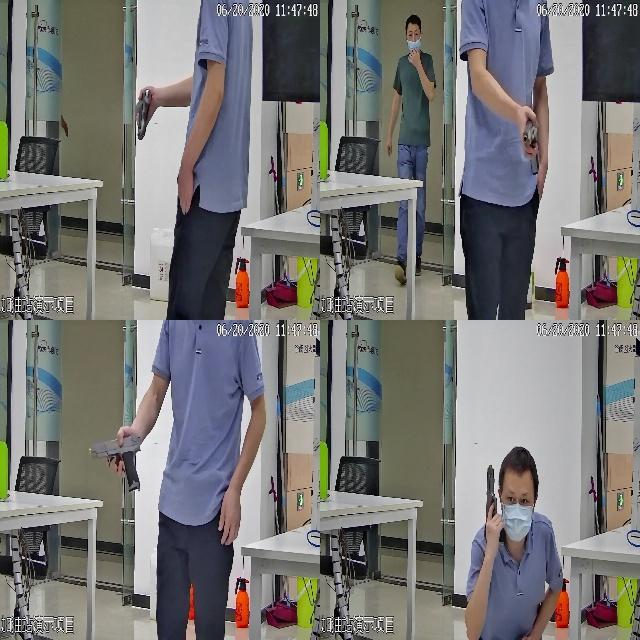gun-knife-thesis - v11 Yolov5 augmented: (86, 431, 140, 492), (482, 461, 503, 542), (519, 110, 539, 173), (132, 87, 152, 140)
